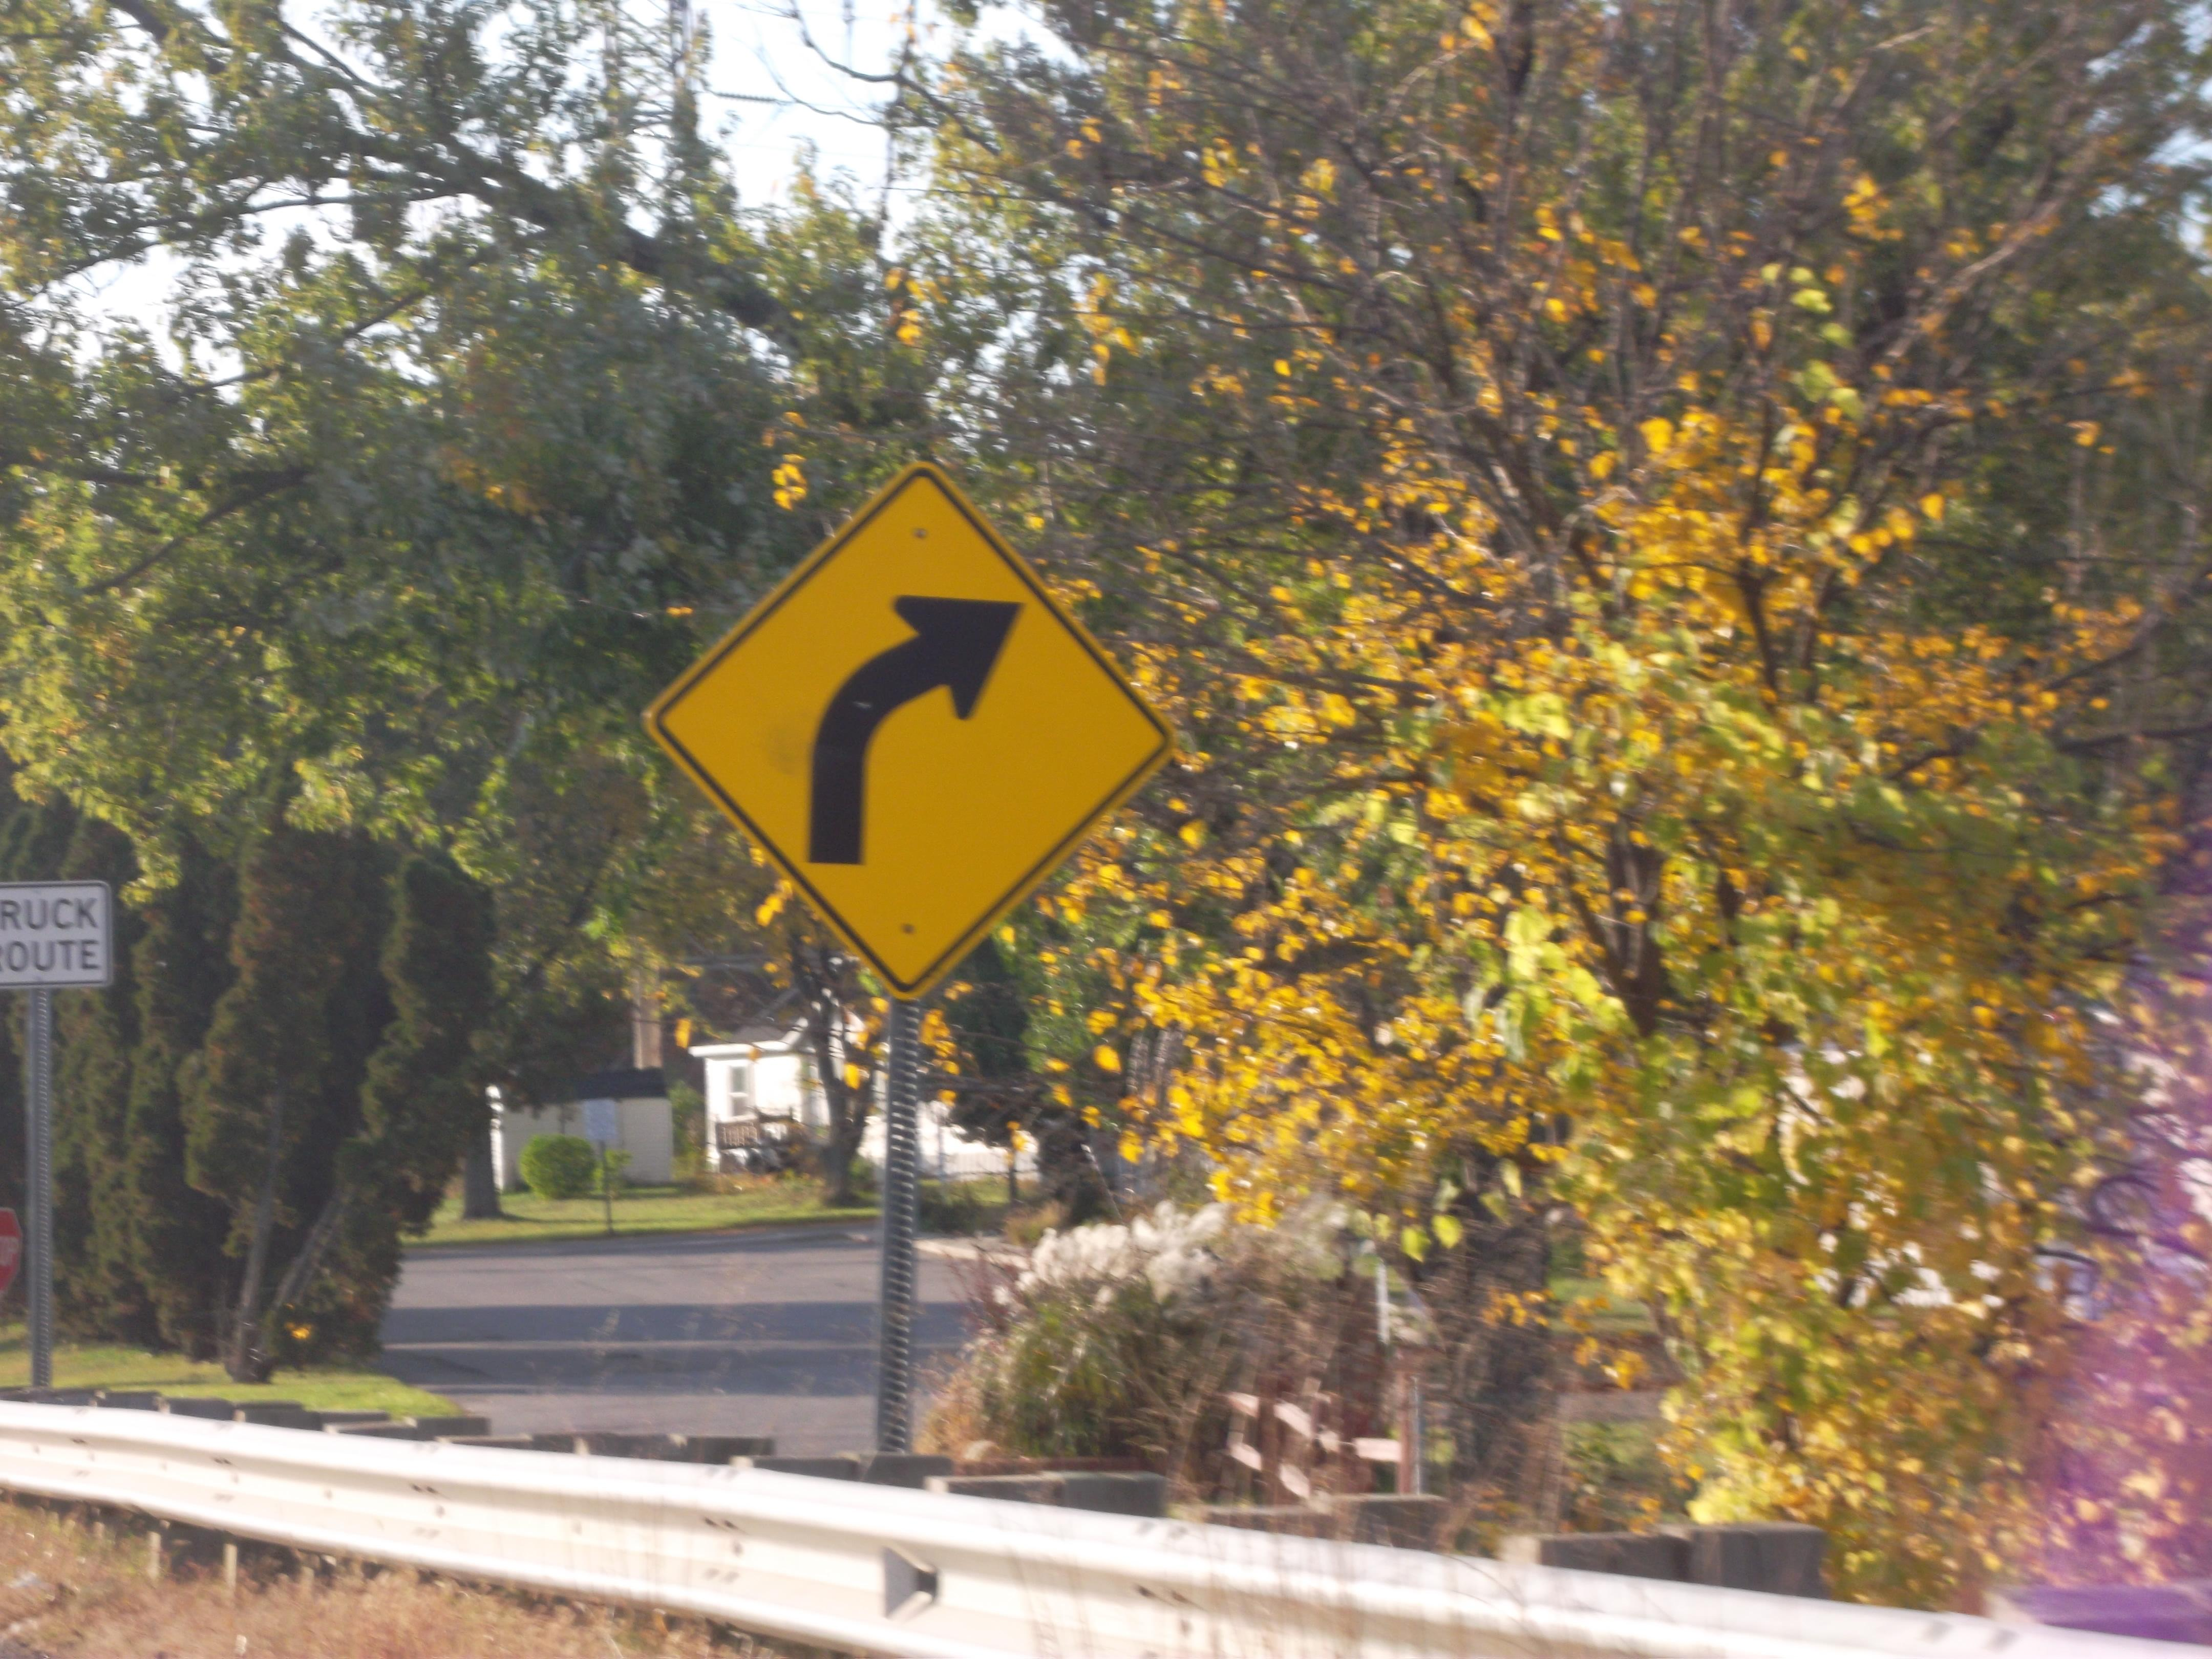warning: (637, 451, 1195, 1014)
